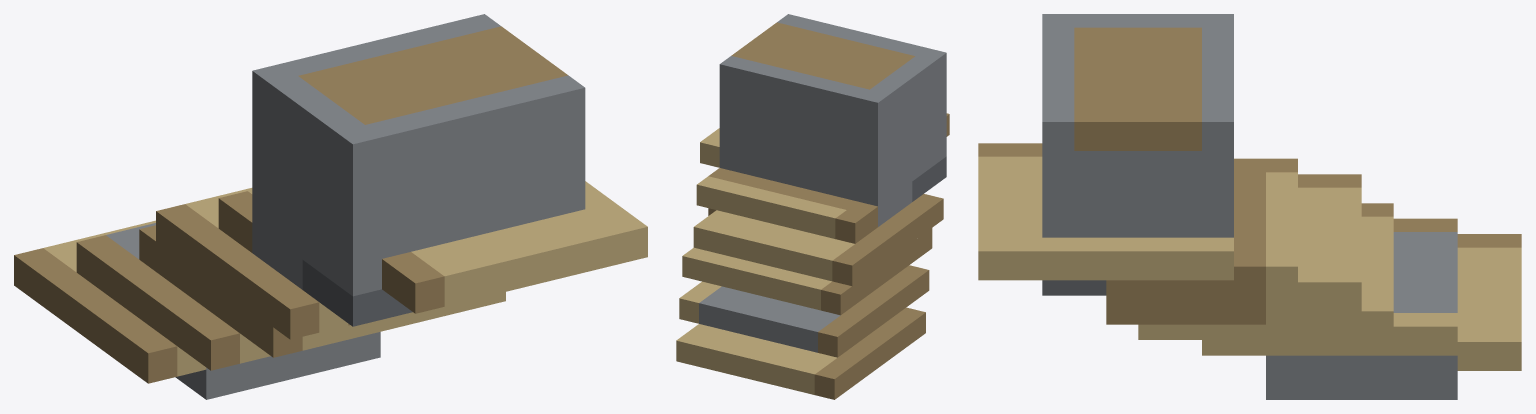
The model's file is arm_l_fore.glb.
3 renders of one model, left to right at view 1: azimuth 30°, elevation 25°; view 2: azimuth 150°, elevation 25°; view 3: azimuth 270°, elevation 25°, orthographic. The views are drawn at different scales.
Size of the model in its own units: 12 by 11 by 17.
